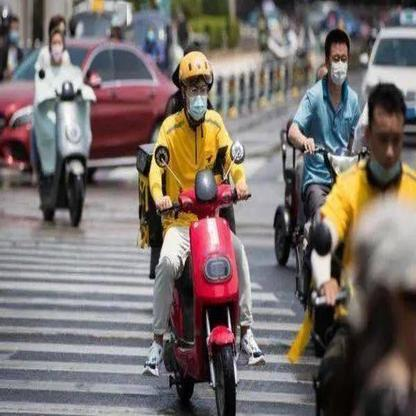target: (135, 51, 270, 412)
